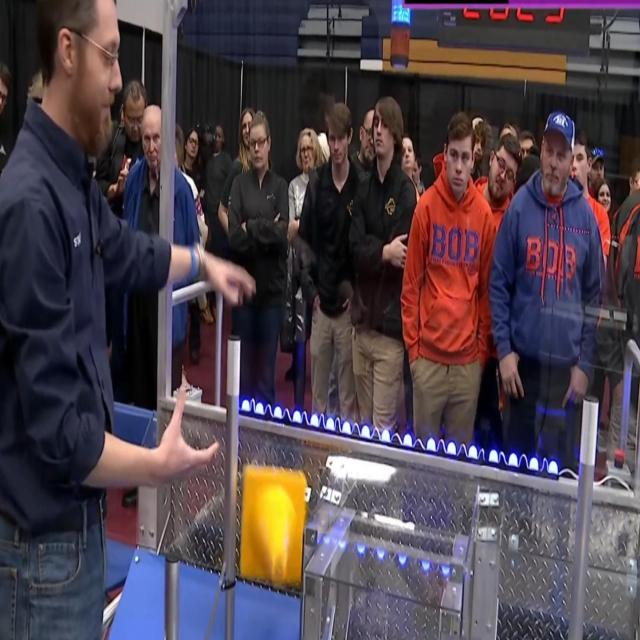frc_cone: (238, 465, 307, 590)
